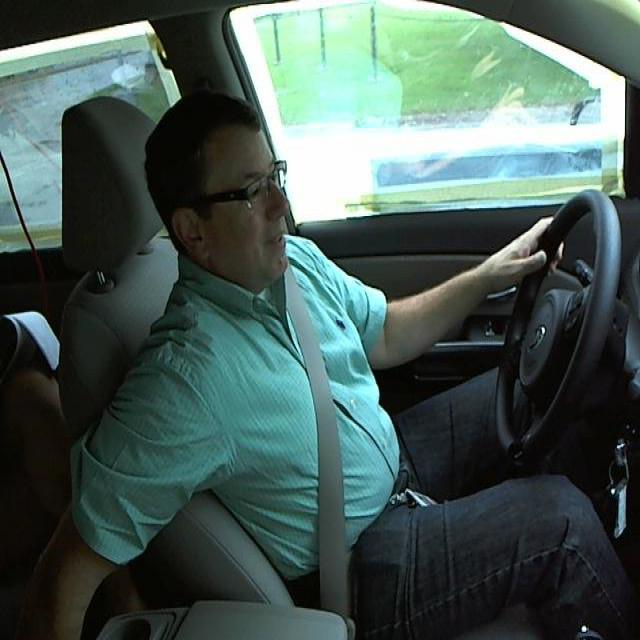seatbelt: (273, 291, 385, 604)
